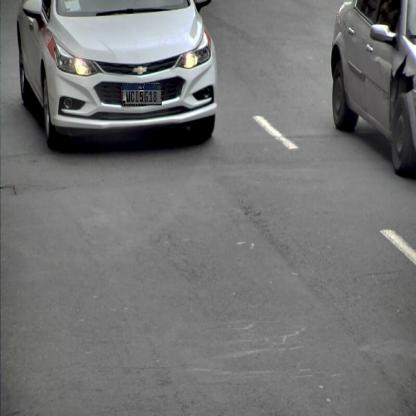PlacaM: (122, 84, 162, 105)
